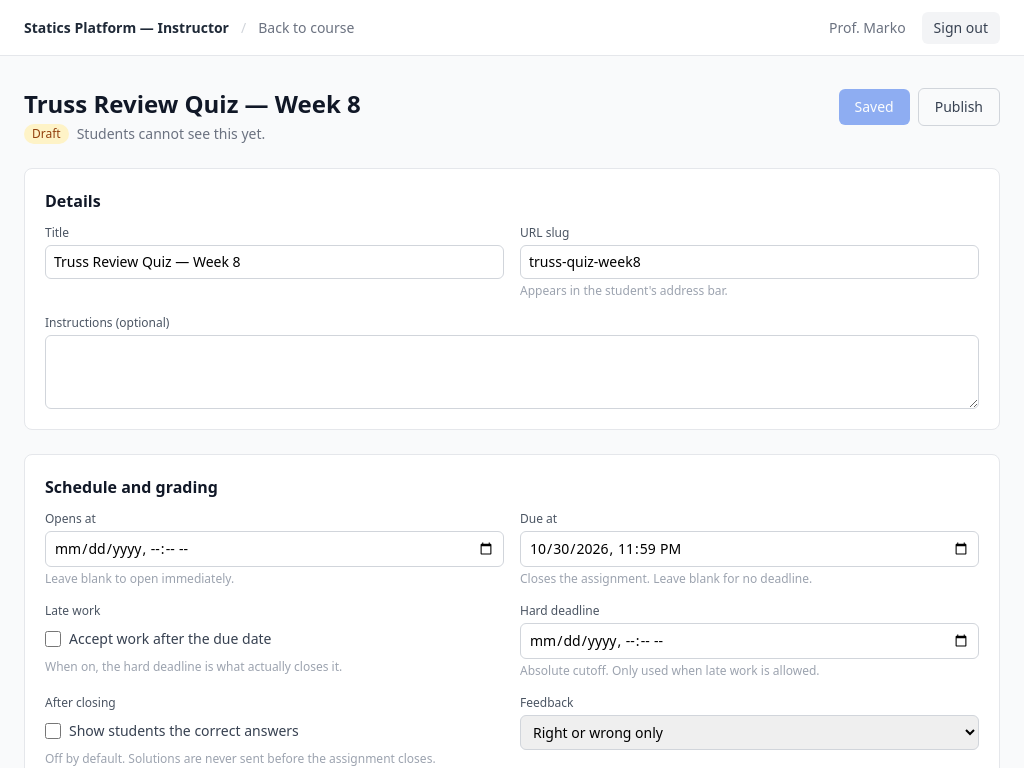
it: assignment builder › publishes a draft and reflects who can see it
The width and height of the screenshot is (1024, 768).
Check: the text "Draft" is shown, box [24,124,69,144]
Click the button "Publish".
click(959, 107)  # box [918,88,1000,126]
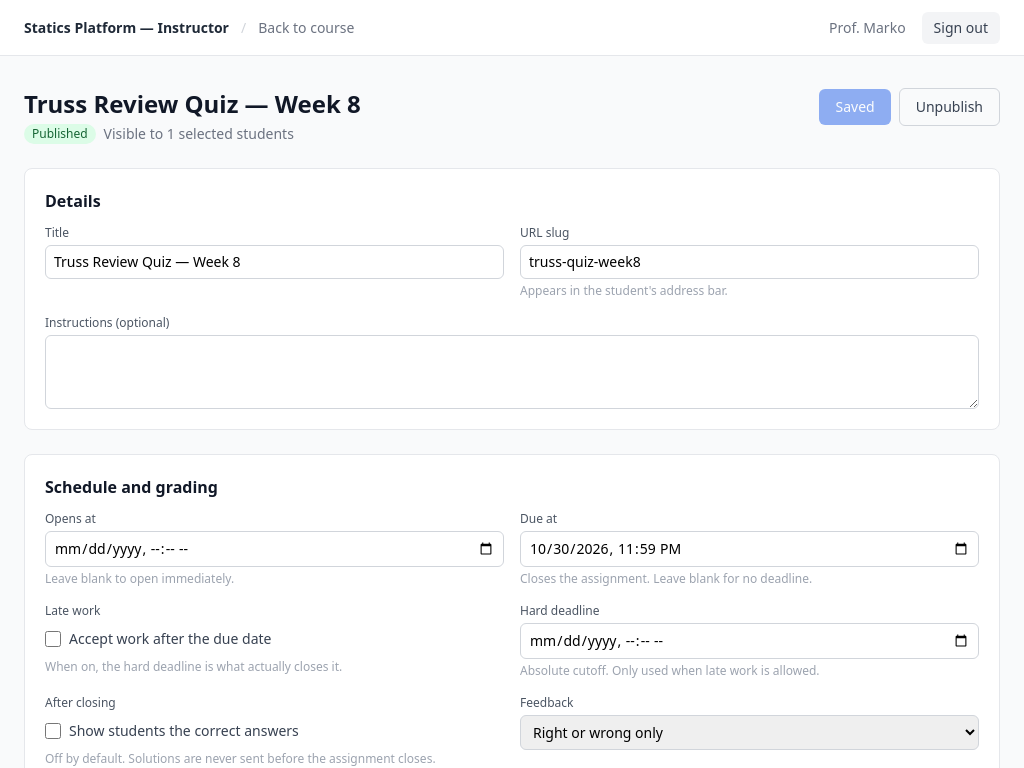
Check: the text "Published" is shown, box [24,124,96,144]
Check: the text "Visible to 1 selected students" is shown, box [104,124,294,144]
